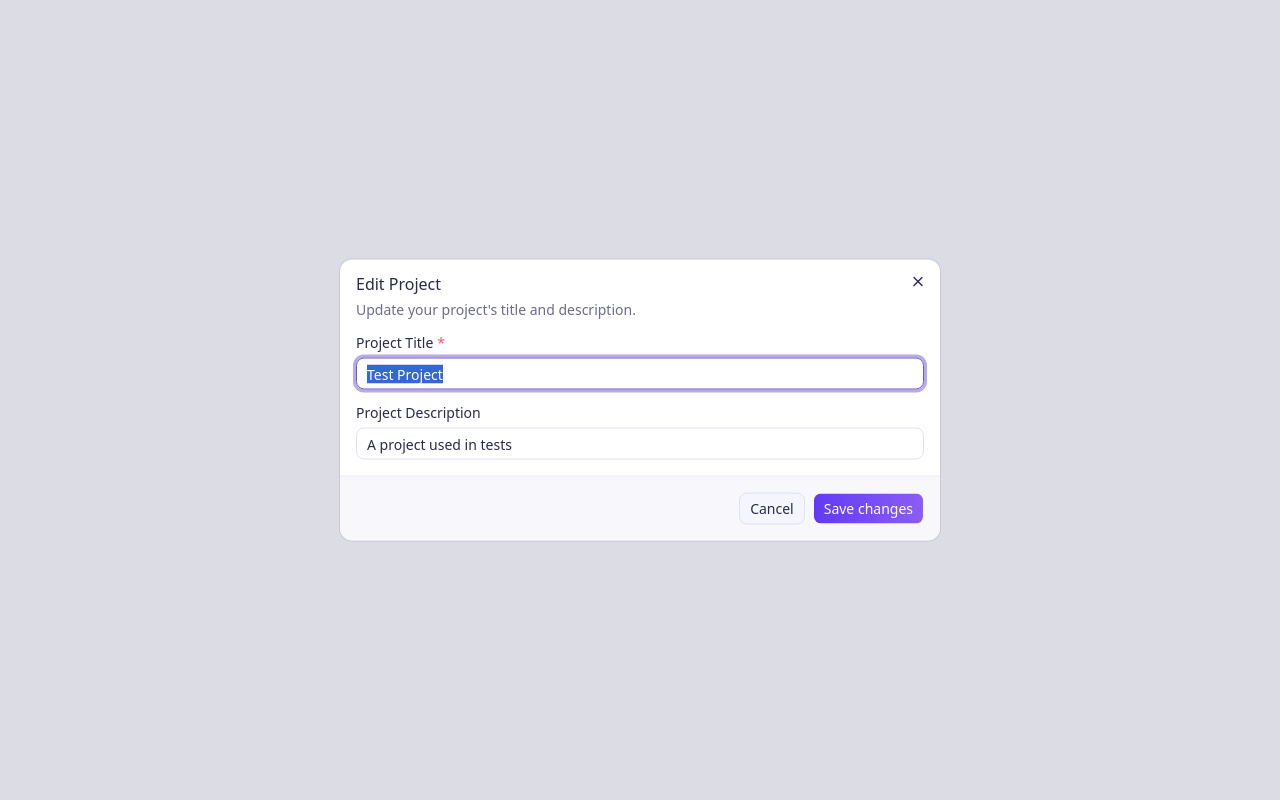
Scenario: EditProjectDialog › shows a validation error when the title is too short
Replace the text in the field showing "Test Project" with "a": (640, 374) x1=356 y1=358 x2=924 y2=390
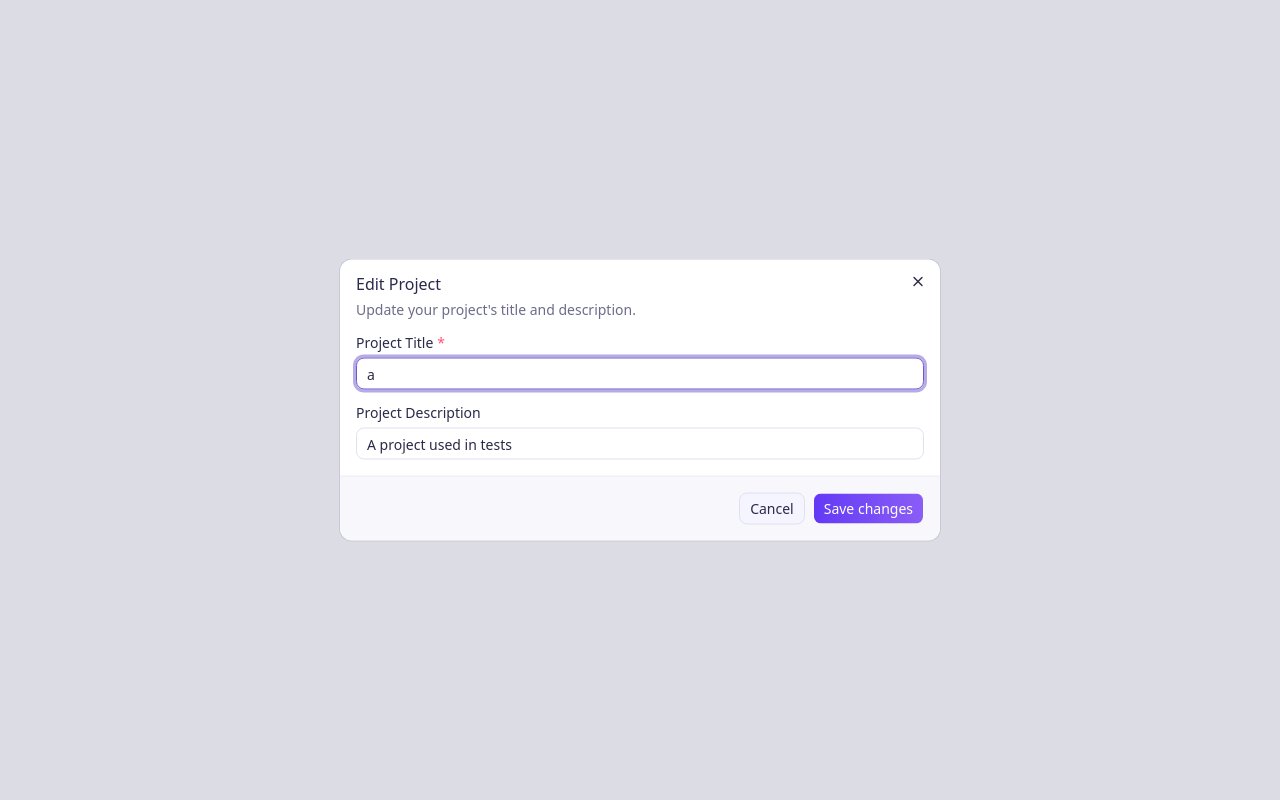
Click the button with test id "EDIT_SUBMIT_PROJECT": (868, 508) x1=813 y1=492 x2=924 y2=524
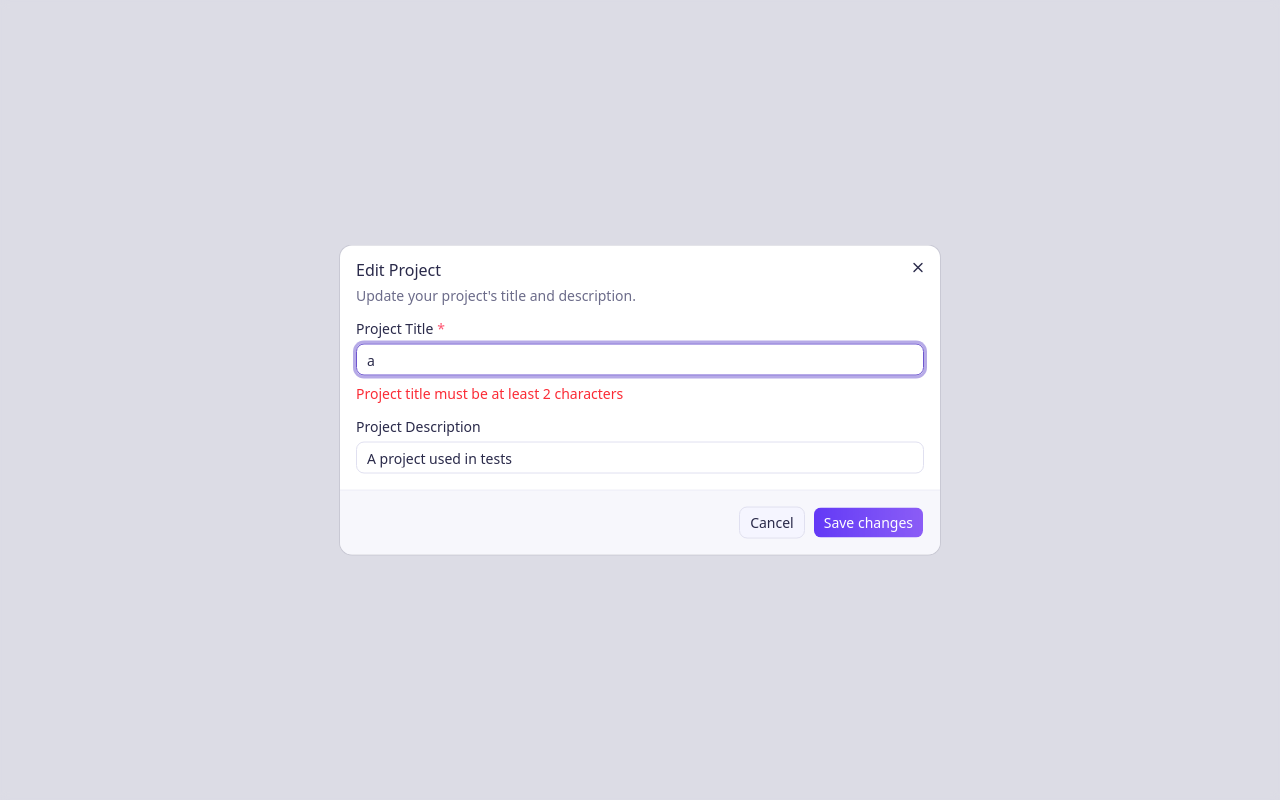
Result: the text "Project title must be at least 2 characters" is shown at x1=356 y1=384 x2=623 y2=402
